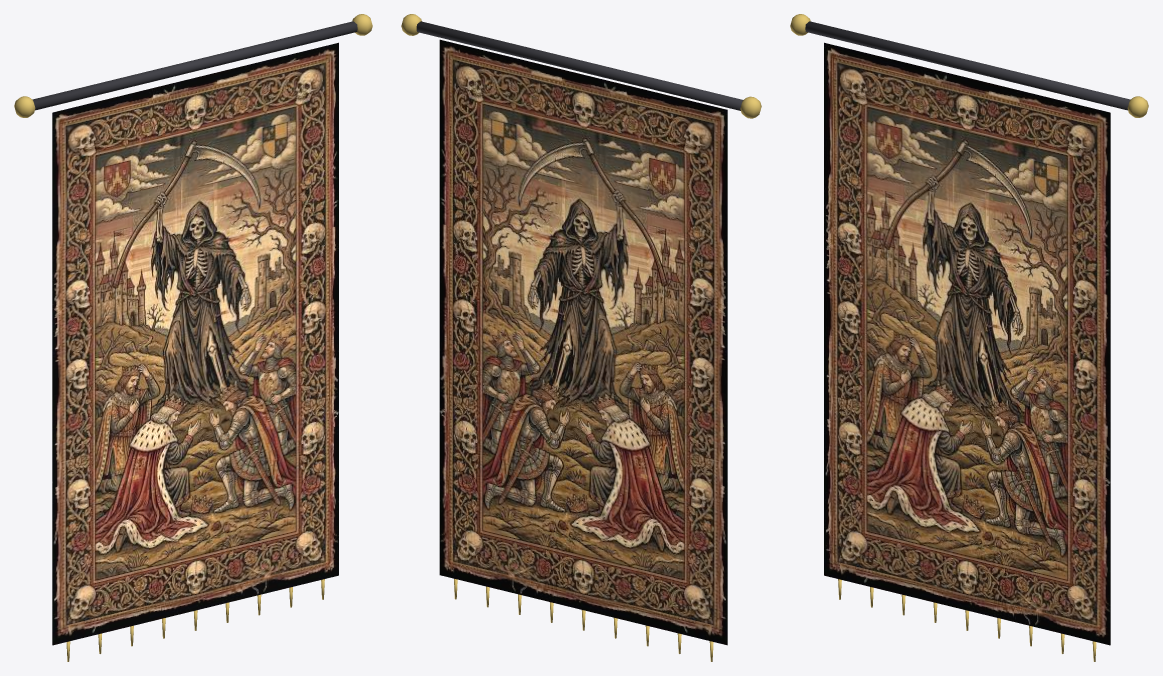
The model's file is art_tapestry_reaper.glb.
3 renders of one model, left to right at view 1: azimuth 30°, elevation 25°; view 2: azimuth 150°, elevation 25°; view 3: azimuth 330°, elevation 25°, orthographic.
Parts seen in each view (by area): view 1: GD_art_tapestry_reaper__m0, GD_art_tapestry_reaper__m1, GD_art_tapestry_reaper__m2; view 2: GD_art_tapestry_reaper__m0, GD_art_tapestry_reaper__m1, GD_art_tapestry_reaper__m2; view 3: GD_art_tapestry_reaper__m0, GD_art_tapestry_reaper__m1, GD_art_tapestry_reaper__m2.
Part boxes in pixels (x1,y1,x2,y2): GD_art_tapestry_reaper__m0: (52, 42, 338, 645); GD_art_tapestry_reaper__m1: (32, 21, 357, 110); GD_art_tapestry_reaper__m2: (14, 14, 372, 661); GD_art_tapestry_reaper__m0: (439, 39, 727, 645); GD_art_tapestry_reaper__m1: (416, 21, 742, 110); GD_art_tapestry_reaper__m2: (401, 14, 761, 661); GD_art_tapestry_reaper__m0: (824, 42, 1110, 645); GD_art_tapestry_reaper__m1: (805, 21, 1130, 110); GD_art_tapestry_reaper__m2: (790, 14, 1148, 661).
Size of the model in its own units: 1.12 by 1.72 by 0.06.
Materials: 3 (1 with a texture image).
